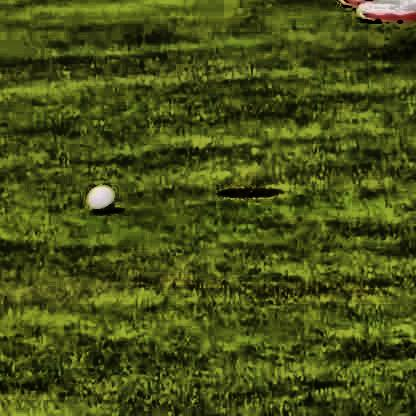golfball: (84, 181, 114, 211)
